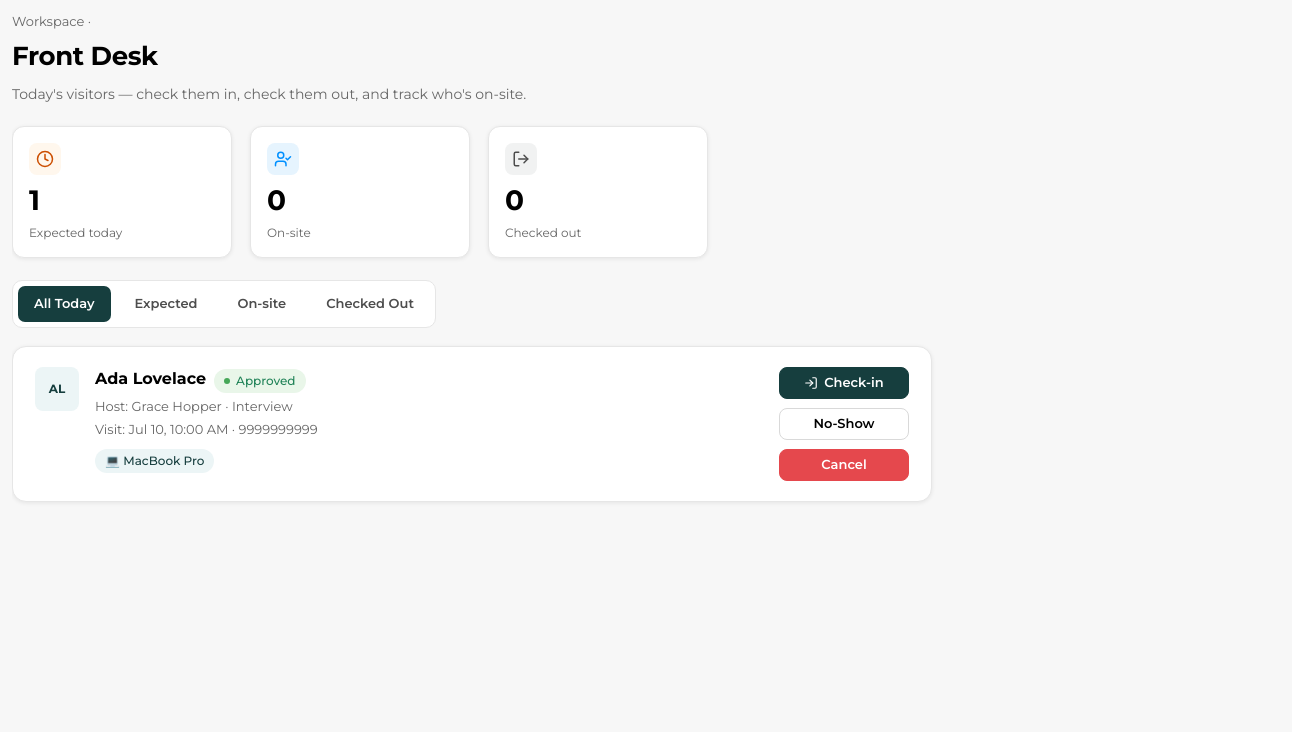
Test: No-Show and Cancel transition an Approved visitor
Expected: the text "Ada Lovelace" is shown, [95,367,206,391]
Click the button "No-Show" at {"x": 844, "y": 424}, box [779,408,909,440]
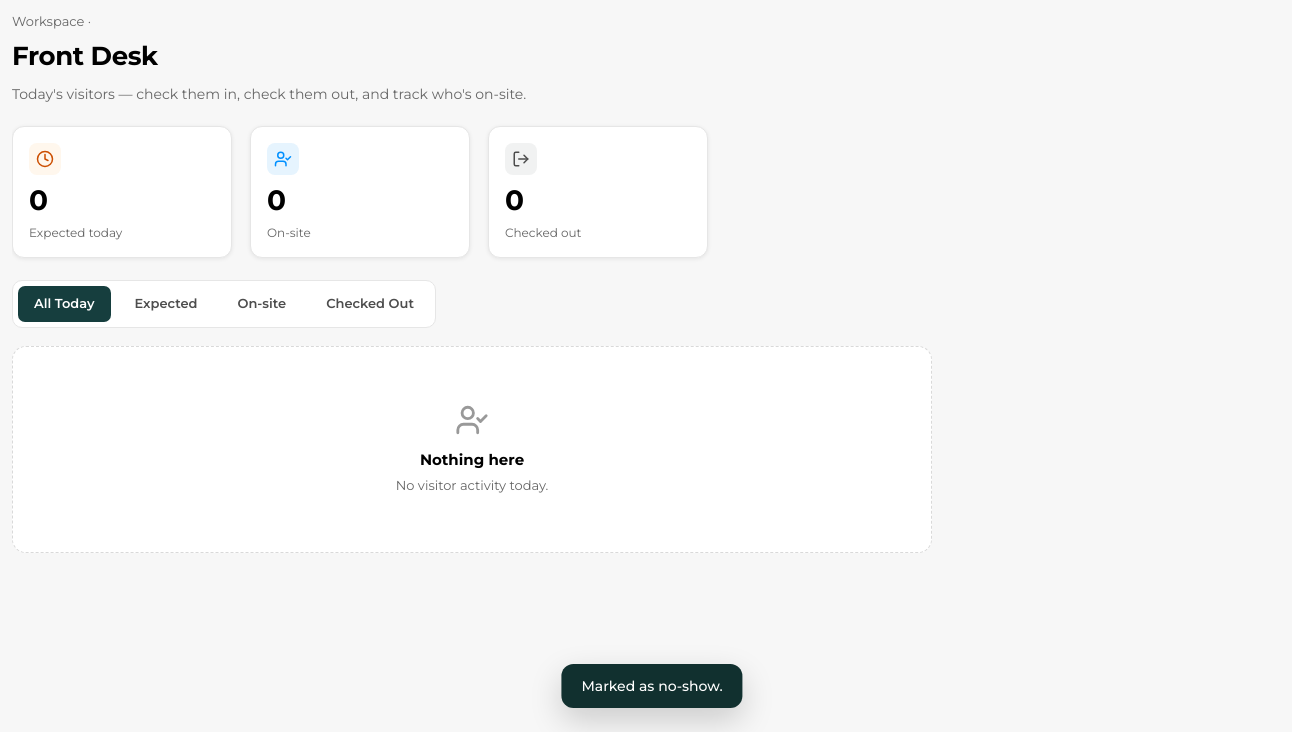
Result: the text "Marked as no-show." is shown at [561,664,743,708]
